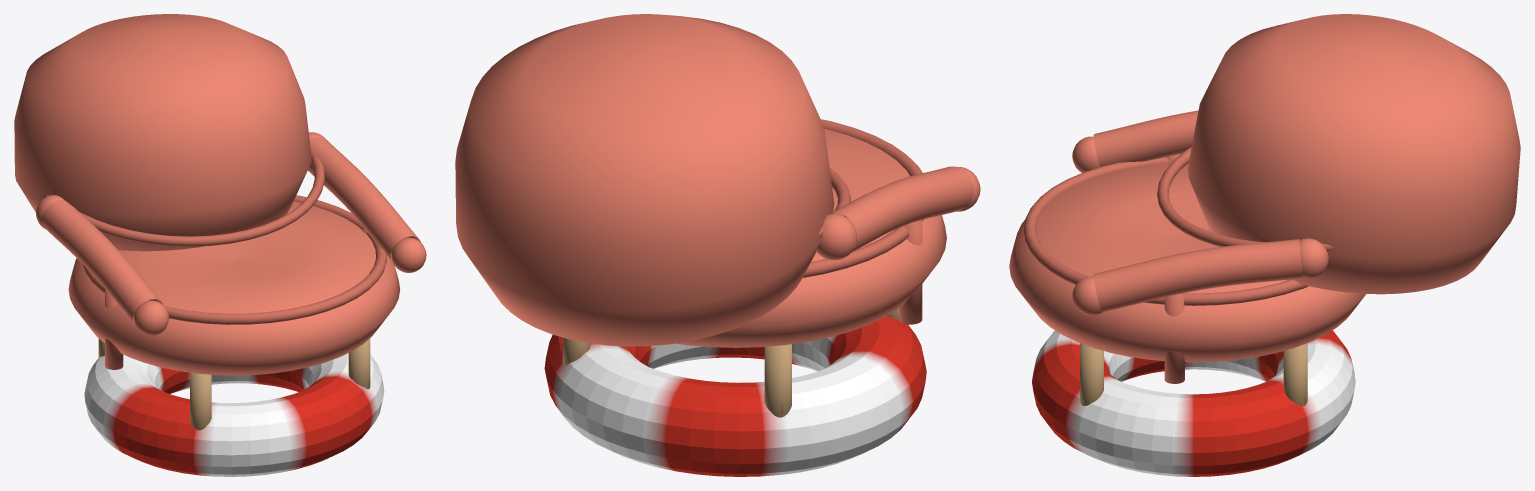
The model's file is red-armchair-v3.glb.
The picture shows the model from 3 angles, left to right: view 1: azimuth 30°, elevation 25°; view 2: azimuth 150°, elevation 25°; view 3: azimuth 270°, elevation 25°; orthographic projection. The views are drawn at different scales.
Visible parts, largest first — view 1: back, seat, life_ring, arm_-0.52, arm_0.52, piping_seat, piping_back, leg_-0.32_-0.32, arm_end_front_0.52, arm_end_front_-0.52, leg_0.32_-0.32, arm_support_-0.52; view 2: back, life_ring, seat, arm_-0.52, piping_seat, leg_-0.32_0.32, arm_end_back_-0.52, arm_support_-0.52; view 3: back, seat, life_ring, arm_0.52, piping_seat, arm_-0.52, piping_back, leg_0.32_0.32, leg_0.32_-0.32, arm_support_0.52, arm_end_back_0.52, arm_end_front_0.52 (+1 smaller).
Part boxes in pixels (x1=…): back: x1=14, y1=14, x2=311, y2=251; seat: x1=68, y1=201, x2=400, y2=375; life_ring: x1=84, y1=353, x2=384, y2=476; arm_-0.52: x1=41, y1=200, x2=163, y2=324; arm_0.52: x1=308, y1=137, x2=420, y2=261; piping_seat: x1=82, y1=195, x2=386, y2=324; piping_back: x1=44, y1=153, x2=324, y2=246; leg_-0.32_-0.32: x1=190, y1=372, x2=211, y2=430; arm_end_front_0.52: x1=391, y1=237, x2=426, y2=272; arm_end_front_-0.52: x1=133, y1=300, x2=168, y2=335; leg_0.32_-0.32: x1=348, y1=338, x2=370, y2=389; arm_support_-0.52: x1=105, y1=288, x2=123, y2=369; back: x1=455, y1=14, x2=834, y2=346; life_ring: x1=544, y1=316, x2=926, y2=476; seat: x1=676, y1=128, x2=946, y2=347; arm_-0.52: x1=830, y1=166, x2=973, y2=251; piping_seat: x1=803, y1=119, x2=923, y2=277; leg_-0.32_0.32: x1=764, y1=344, x2=791, y2=417; arm_end_back_-0.52: x1=816, y1=214, x2=857, y2=260; arm_support_-0.52: x1=899, y1=220, x2=922, y2=324; back: x1=1187, y1=14, x2=1520, y2=294; seat: x1=1009, y1=163, x2=1365, y2=362; life_ring: x1=1032, y1=330, x2=1355, y2=476; arm_0.52: x1=1093, y1=239, x2=1303, y2=312; piping_seat: x1=1023, y1=157, x2=1308, y2=305; arm_-0.52: x1=1093, y1=110, x2=1198, y2=166; piping_back: x1=1157, y1=146, x2=1333, y2=251; leg_0.32_0.32: x1=1283, y1=343, x2=1307, y2=405; leg_0.32_-0.32: x1=1080, y1=343, x2=1103, y2=405; arm_support_0.52: x1=1164, y1=293, x2=1184, y2=383; arm_end_back_0.52: x1=1299, y1=238, x2=1328, y2=278; arm_end_front_0.52: x1=1072, y1=276, x2=1102, y2=315.
Bounding box in the file's own units: 1.17 × 1.31 × 1.61.
